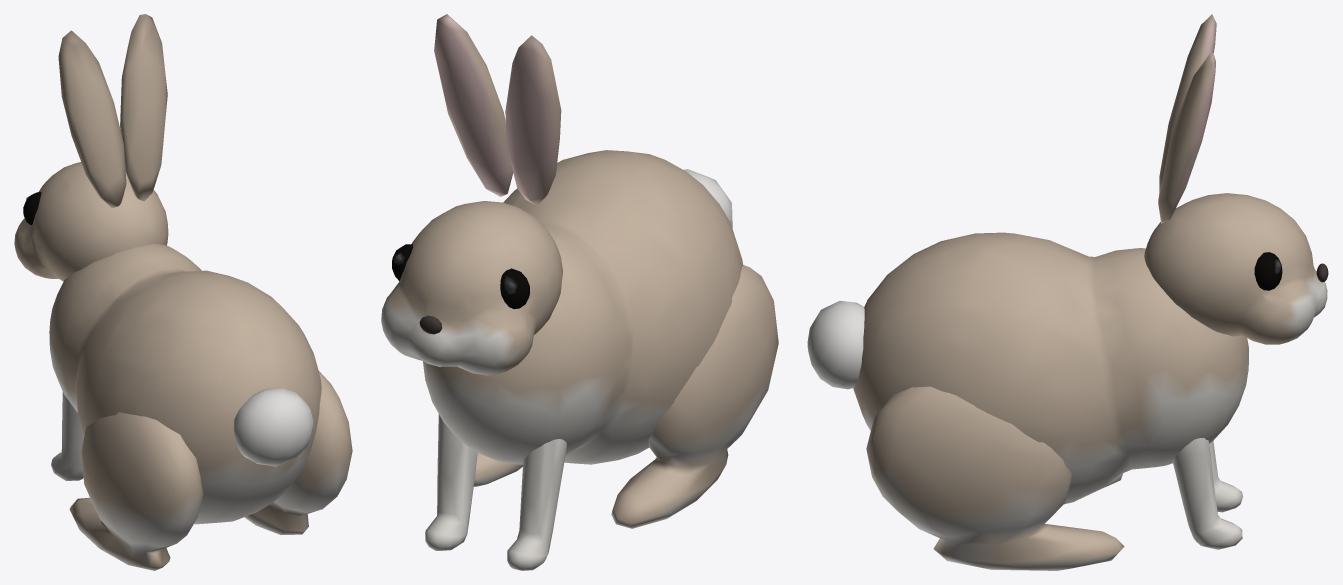
The model's file is rabbit_parts.glb.
3 views of the same model, side by side, from view 1: azimuth 30°, elevation 25°; view 2: azimuth 150°, elevation 25°; view 3: azimuth 270°, elevation 25° (orthographic). The views are drawn at different scales.
Parts seen in each view (by area): view 1: BODY, HIND1, HEAD2__, HEAD, HIND3, TAIL, FRONT1; view 2: BODY, HEAD, HIND1, HEAD2__, FRONT1, FRONT3, HEAD4__, HIND3, TAIL; view 3: BODY, HIND3, HEAD, HEAD2__, TAIL, FRONT3, FRONT1, HEAD6__.
Boxes of the visible parts, left/top/right/bottom form: BODY: left=49, top=243, right=321, bottom=524; HIND1: left=69, top=412, right=203, bottom=570; HEAD2__: left=58, top=14, right=167, bottom=207; HEAD: left=14, top=162, right=168, bottom=281; HIND3: left=244, top=371, right=352, bottom=534; TAIL: left=233, top=388, right=313, bottom=466; FRONT1: left=51, top=392, right=83, bottom=480; BODY: left=423, top=150, right=743, bottom=464; HEAD: left=381, top=201, right=562, bottom=375; HIND1: left=611, top=265, right=778, bottom=528; HEAD2__: left=434, top=14, right=561, bottom=205; FRONT1: left=507, top=439, right=566, bottom=570; FRONT3: left=425, top=414, right=477, bottom=550; HEAD4__: left=500, top=268, right=529, bottom=309; HIND3: left=473, top=453, right=522, bottom=486; TAIL: left=683, top=169, right=732, bottom=228; BODY: left=853, top=232, right=1248, bottom=504; HIND3: left=866, top=386, right=1124, bottom=570; HEAD: left=1144, top=193, right=1327, bottom=344; HEAD2__: left=1158, top=14, right=1216, bottom=223; TAIL: left=807, top=300, right=864, bottom=389; FRONT3: left=1172, top=438, right=1242, bottom=549; FRONT1: left=1209, top=441, right=1243, bottom=512; HEAD6__: left=1254, top=252, right=1282, bottom=290.
Bounding box in the file's own units: 0.1956 × 0.3728 × 0.3537.
